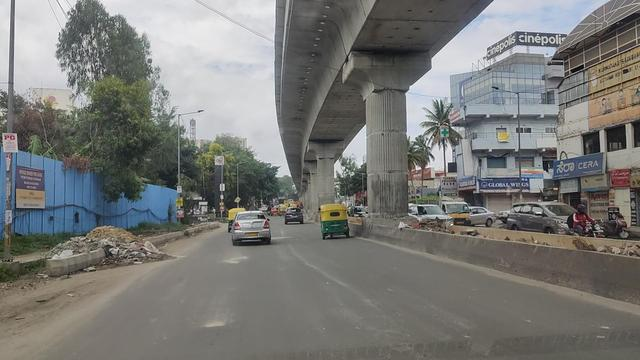LMV: (229, 207, 274, 250), (314, 204, 346, 241)
